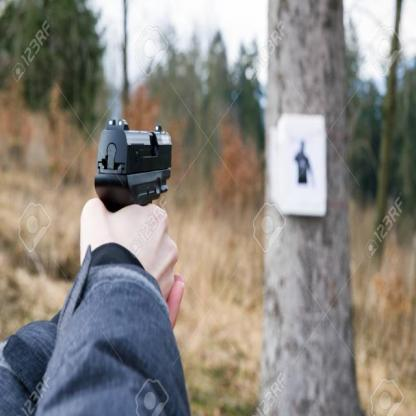handgun: (92, 116, 188, 273)
